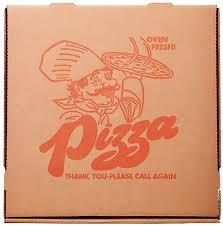Cardboard: (4, 6, 223, 226)
